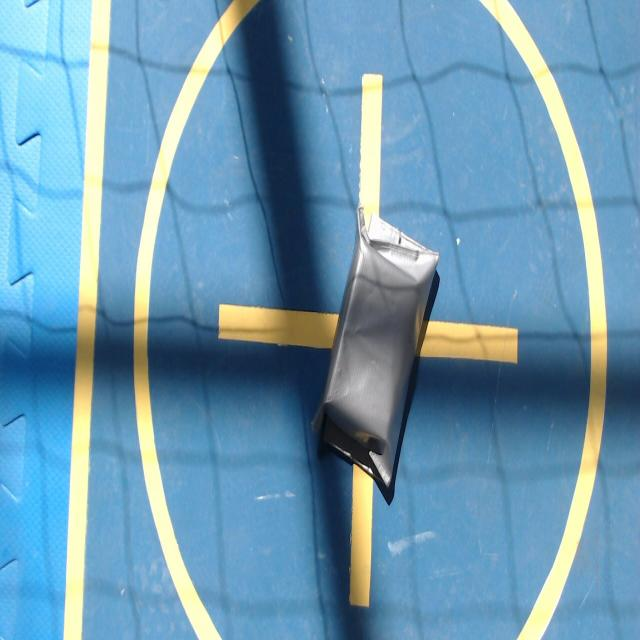direita: (314, 209, 438, 486)
